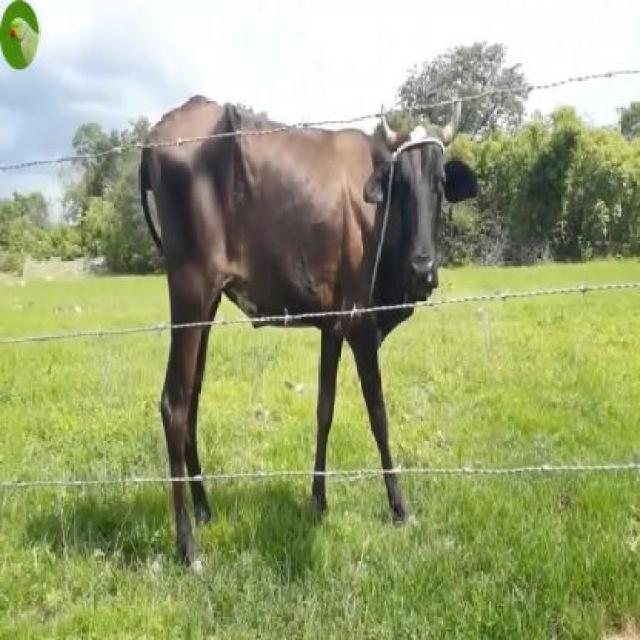Cow: (137, 92, 480, 566)
